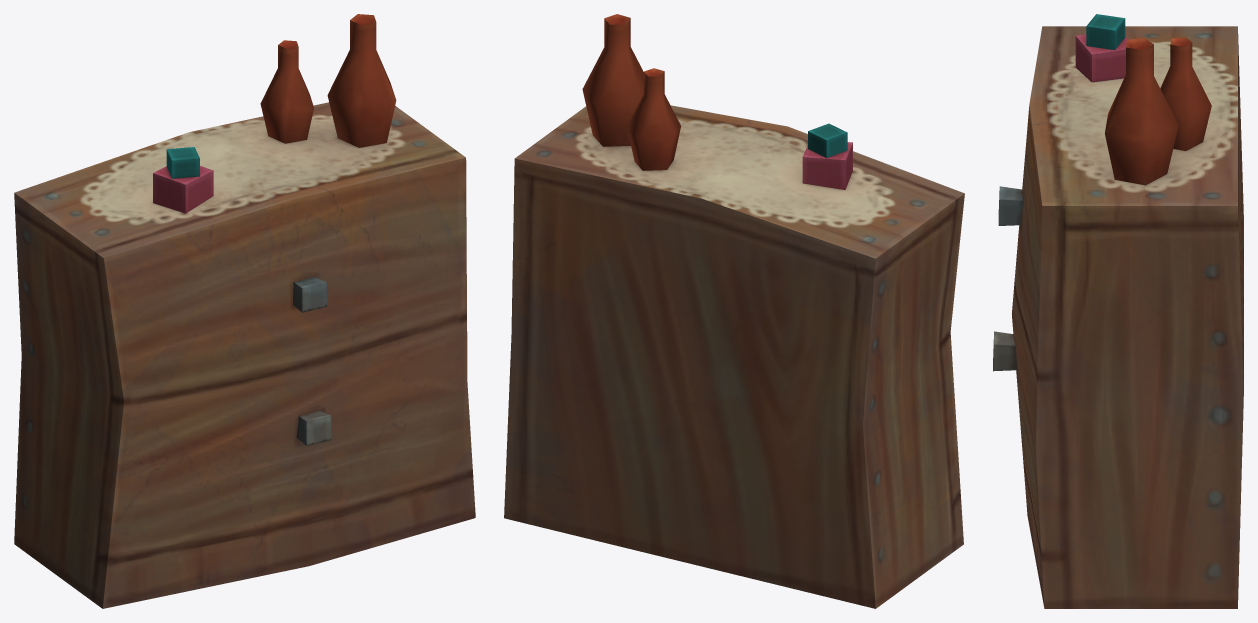
The model's file is furnitureSet_cupboard_4.FBX.
3 renders of one model, left to right at view 1: azimuth 30°, elevation 25°; view 2: azimuth 150°, elevation 25°; view 3: azimuth 270°, elevation 25°, orthographic. The views are drawn at different scales.
Visible parts, largest first — view 1: furnitureSet_cupboard_4; view 2: furnitureSet_cupboard_4; view 3: furnitureSet_cupboard_4.
Part boxes in pixels (bbox=[...]): furnitureSet_cupboard_4: bbox=[14, 14, 475, 608]; furnitureSet_cupboard_4: bbox=[504, 14, 964, 608]; furnitureSet_cupboard_4: bbox=[993, 14, 1243, 608].
Size of the model in its own units: 85.81 by 106 by 45.71.
1 material, 1 textured.
